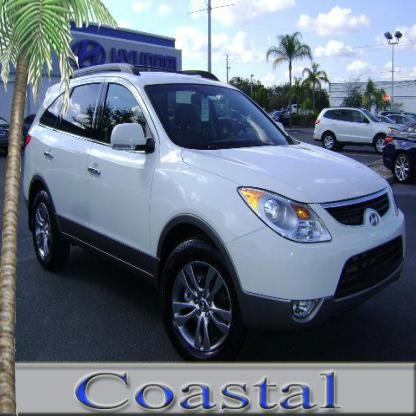Vehicle: (25, 63, 408, 366)
